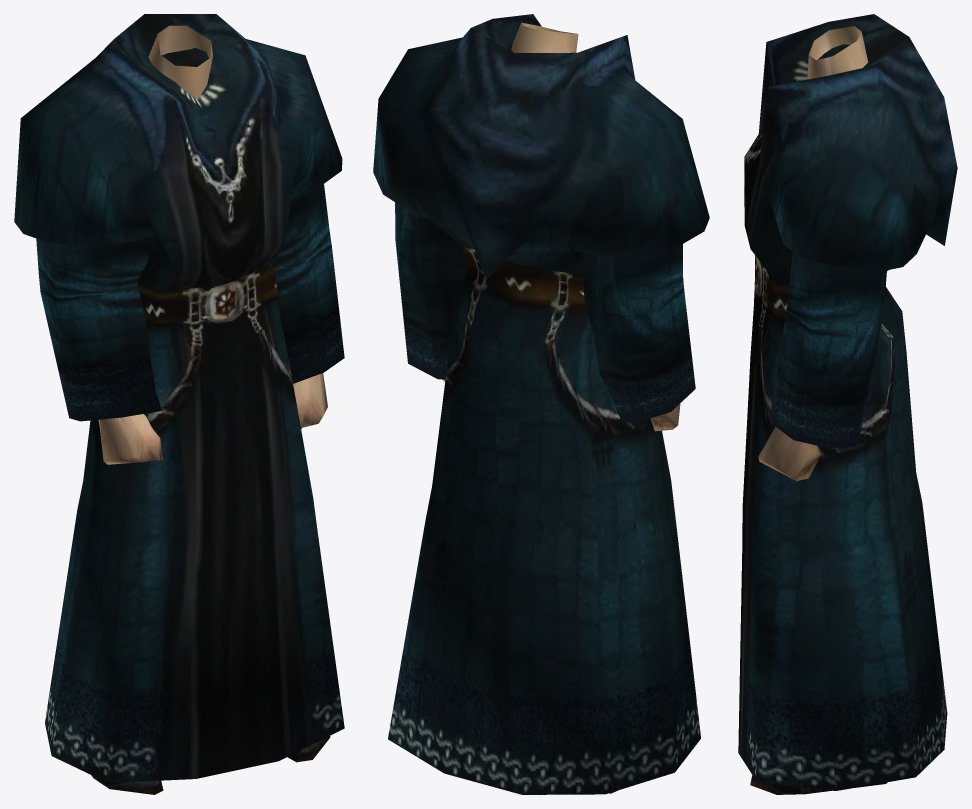
Rendered from ARMOR_KDW_L_ADDON.glb.
The picture shows the model from 3 angles, left to right: view 1: azimuth 30°, elevation 25°; view 2: azimuth 150°, elevation 25°; view 3: azimuth 270°, elevation 25°; orthographic projection. The views are drawn at different scales.
Visible parts, largest first — view 1: ARMOR_KDW_L_ADDON; view 2: ARMOR_KDW_L_ADDON; view 3: ARMOR_KDW_L_ADDON.
Boxes of the visible parts, left/top/right/bottom form: ARMOR_KDW_L_ADDON: left=14, top=14, right=344, bottom=794; ARMOR_KDW_L_ADDON: left=373, top=14, right=709, bottom=794; ARMOR_KDW_L_ADDON: left=738, top=14, right=957, bottom=794.
Bounding box in the file's own units: 0.7517 × 1.66 × 0.4623.
Materials: 2 (2 with a texture image).
